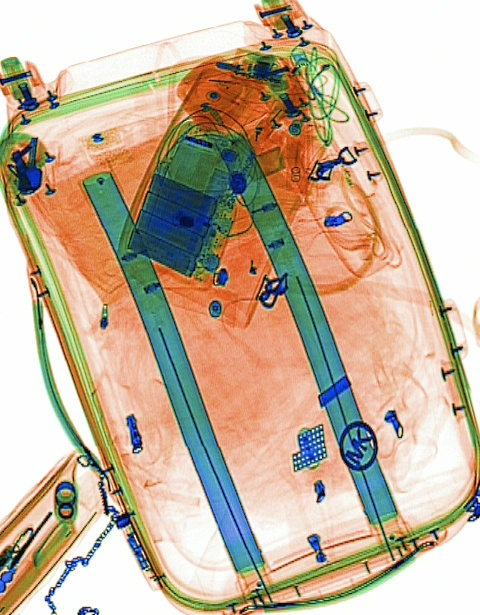powerbank: (116, 119, 258, 291)
